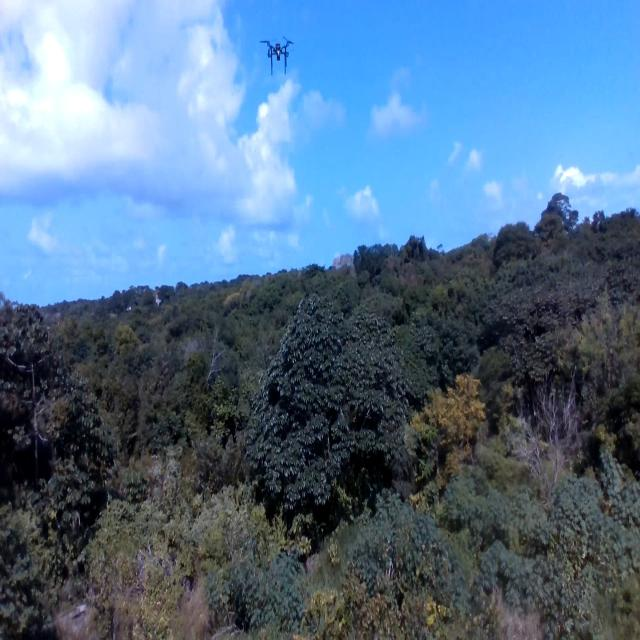-uav-: (254, 32, 304, 78)
